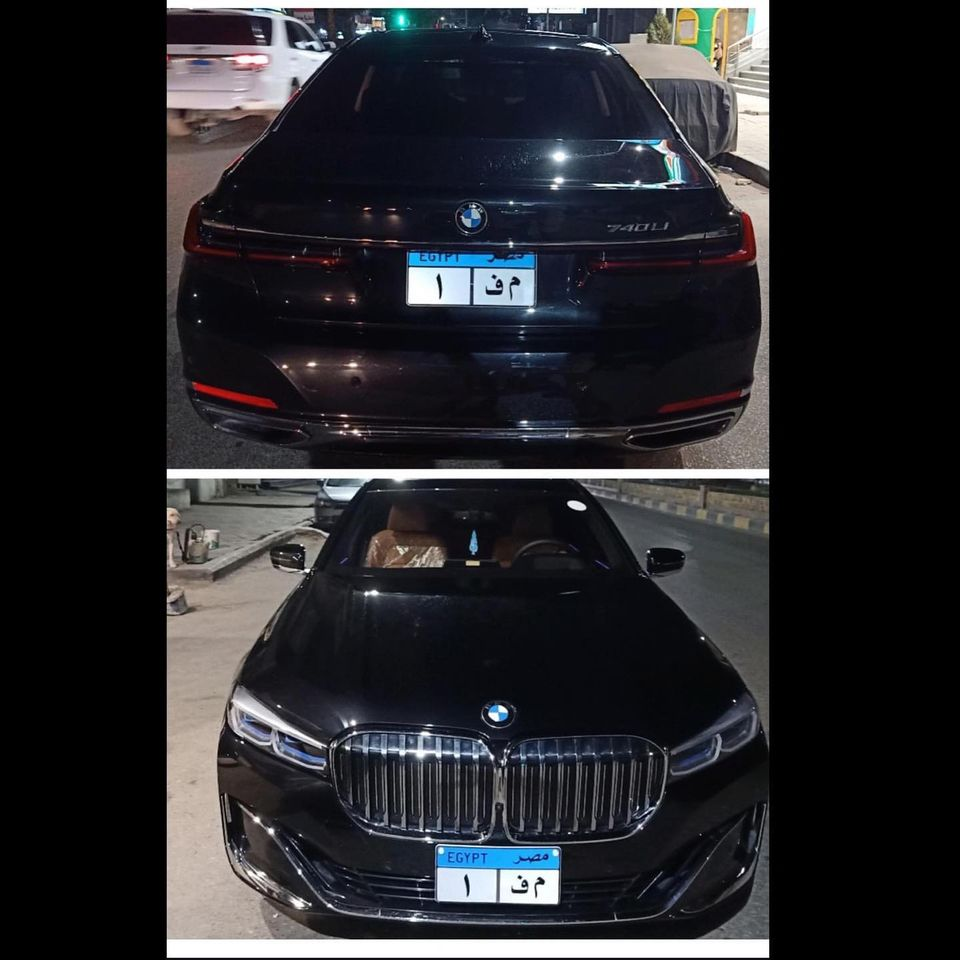carpl: (411, 268, 537, 308), (431, 865, 561, 903)
